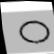no answer: (16, 17, 53, 47)
